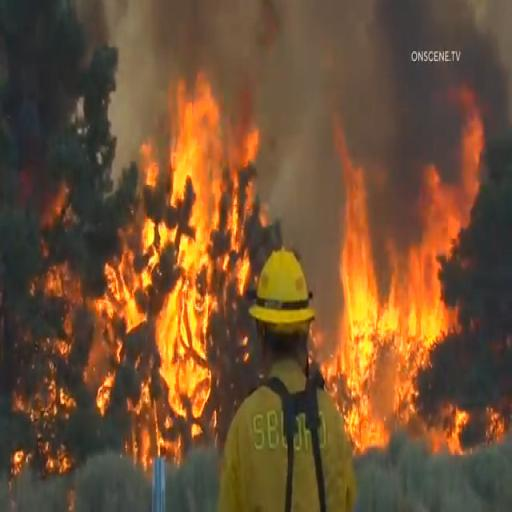fire: (120, 86, 236, 414), (314, 125, 428, 428), (255, 4, 400, 114)
